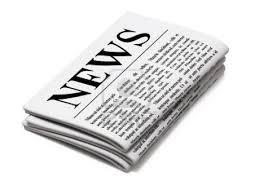Printing industry: (20, 7, 238, 171)
